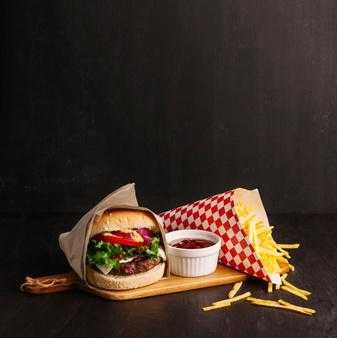hamburger: (81, 203, 164, 287)
